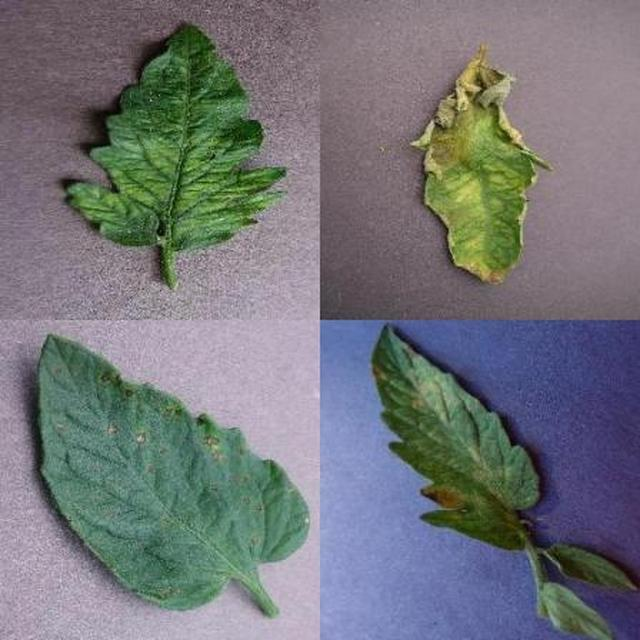Mosaic Virus Leaf: (206, 196, 640, 640)
